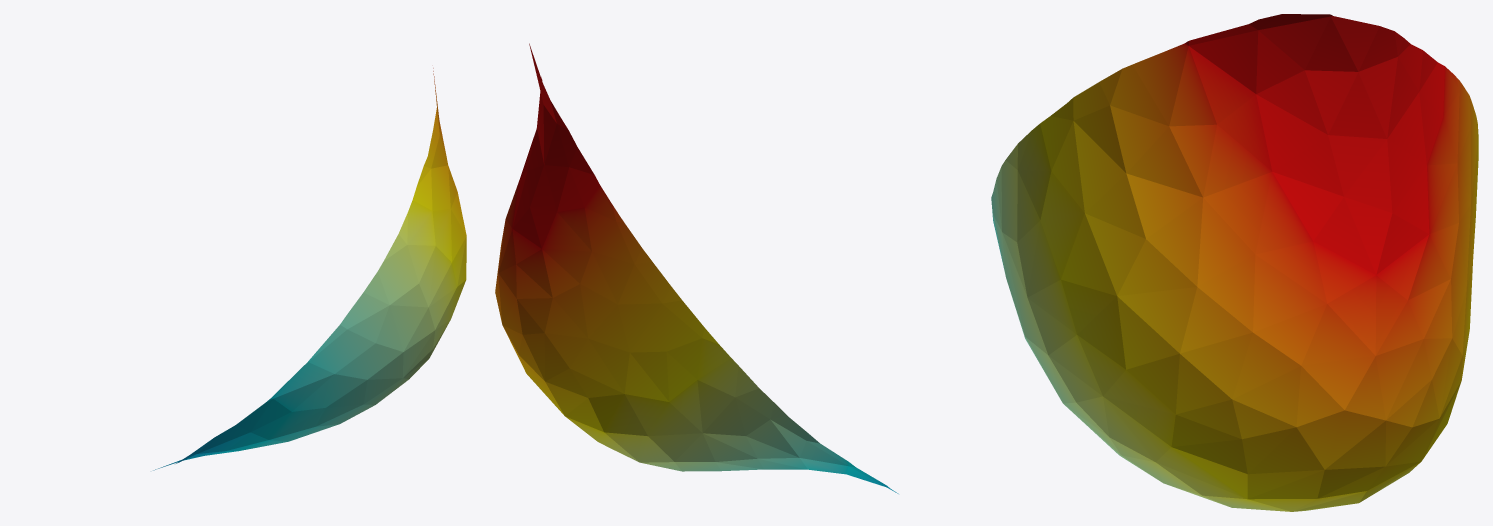
Rendered from aneurysm.glb.
The picture shows the model from 3 angles, left to right: view 1: azimuth 30°, elevation 25°; view 2: azimuth 150°, elevation 25°; view 3: azimuth 270°, elevation 25°; orthographic projection. The views are drawn at different scales.
Visible parts, largest first — view 1: 3D_aneurysm_AHMU1218001.stl; view 2: 3D_aneurysm_AHMU1218001.stl; view 3: 3D_aneurysm_AHMU1218001.stl.
Part boxes in pixels (x1=…): 3D_aneurysm_AHMU1218001.stl: x1=153, y1=68, x2=466, y2=470; 3D_aneurysm_AHMU1218001.stl: x1=495, y1=43, x2=898, y2=493; 3D_aneurysm_AHMU1218001.stl: x1=991, y1=14, x2=1478, y2=511.
Bounding box in the file's own units: 3.9 × 3.41 × 2.55.
